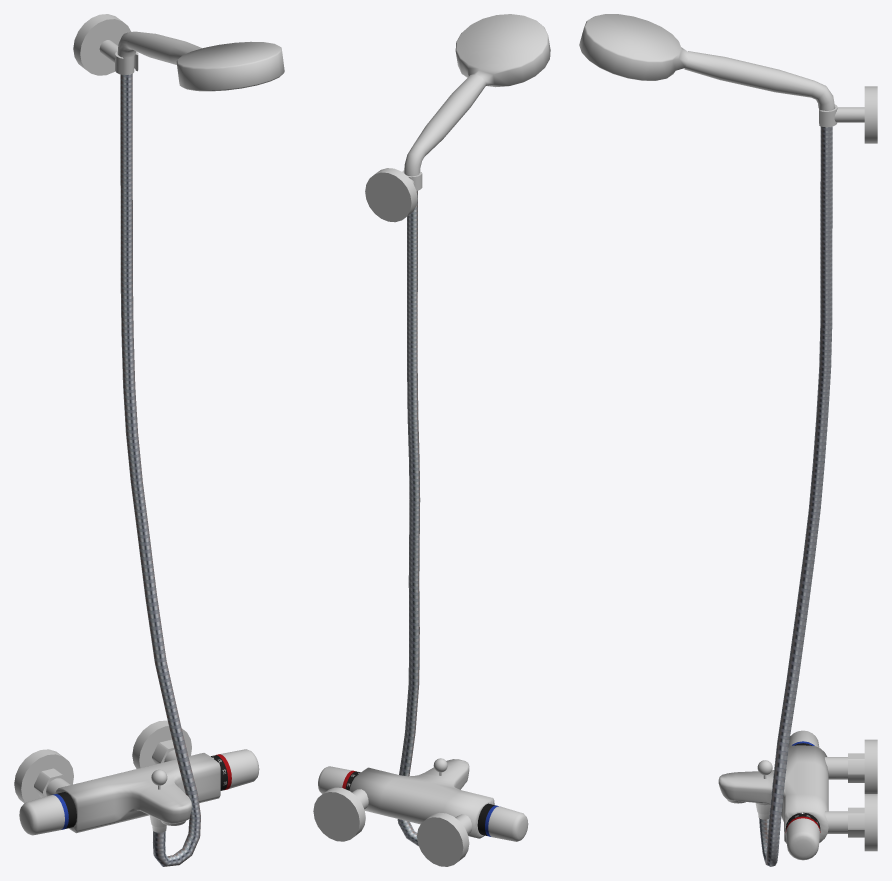
Rendered from sh_scopia_mixer_tap_for_bath_and_shower.glb.
3 renders of one model, left to right at view 1: azimuth 30°, elevation 25°; view 2: azimuth 150°, elevation 25°; view 3: azimuth 270°, elevation 25°, orthographic. The views are drawn at different scales.
Size of the model in its own units: 0.29 by 1.07 by 0.347.
11 materials, 3 textured.
